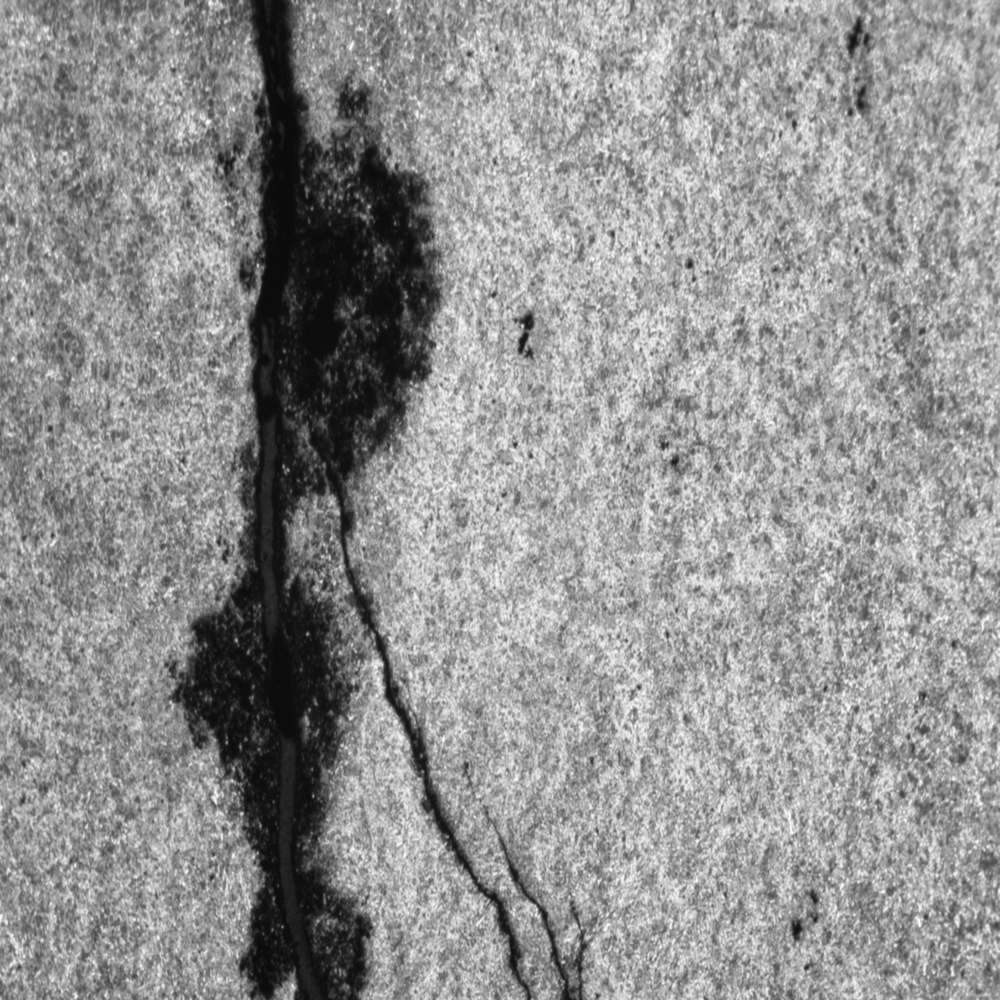crack: (159, 8, 604, 992)
